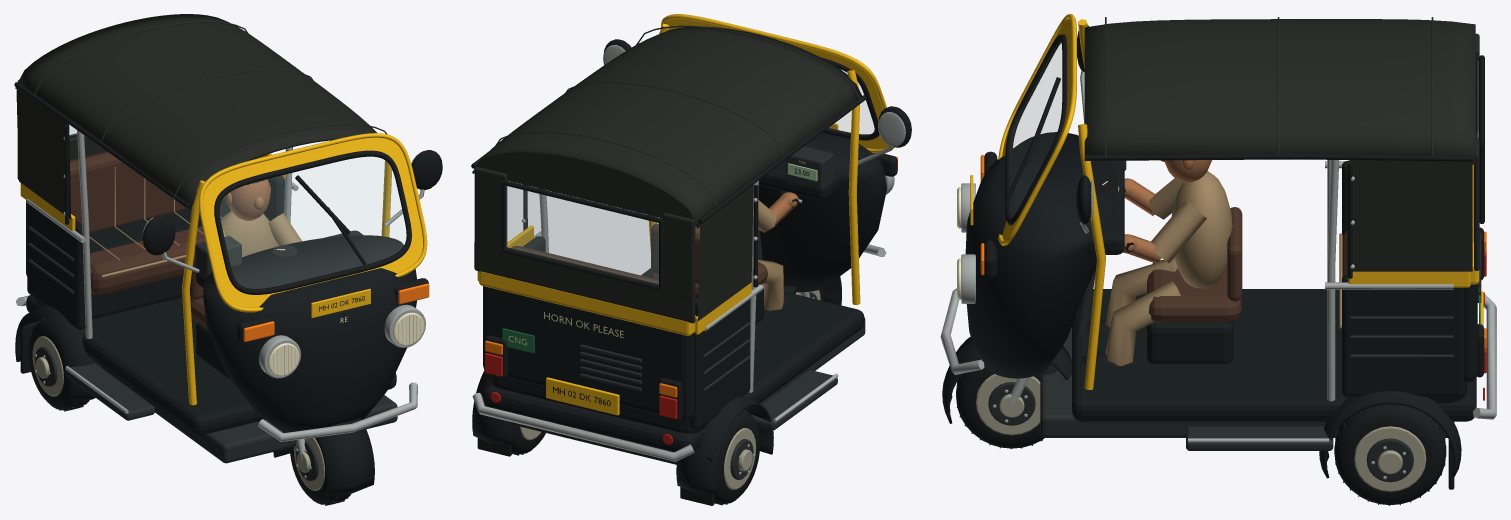
The model's file is mumbai-auto.glb.
3 renders of one model, left to right at view 1: azimuth 30°, elevation 25°; view 2: azimuth 150°, elevation 25°; view 3: azimuth 270°, elevation 25°, orthographic. The views are drawn at different scales.
Parts seen in each view (by area): view 1: body__Midnight black enamel.002, canopy__Tarpaulin black.002, body__Window glass.002, body__Mumbai taxi yellow.002, body__Warm vinyl.002, body__Rubber.002, body__Chassis.002, body__Chrome.002, body__Tarpaulin black.002, driver__Khaki cotton.002, body__Headlamp lens.002, wheel_rear_left__Rubber.002 (+11 smaller); view 2: body__Midnight black enamel.002, canopy__Tarpaulin black.002, body__Tarpaulin black.002, body__Mumbai taxi yellow.002, body__Window glass.002, body__Rubber.002, body__Chassis.002, body__Chrome.002, body__Warm vinyl.002, canopy__Chassis.002, wheel_rear_left__Rubber.002, driver__Khaki cotton.002 (+7 smaller); view 3: body__Midnight black enamel.002, canopy__Tarpaulin black.002, body__Tarpaulin black.002, driver__Khaki cotton.002, body__Chassis.002, body__Chrome.002, body__Mumbai taxi yellow.002, body__Rubber.002, wheel_rear_right__Rubber.002, body__Warm vinyl.002, body__Window glass.002, wheel_rear_right__Steel wheel.002 (+7 smaller).
Part boxes in pixels (box(x1,y1,x2,y2)): body__Midnight black enamel.002: box(15, 158, 416, 496); canopy__Tarpaulin black.002: box(15, 14, 376, 209); body__Window glass.002: box(69, 125, 405, 288); body__Mumbai taxi yellow.002: box(20, 133, 427, 405); body__Warm vinyl.002: box(70, 151, 226, 328); body__Rubber.002: box(20, 125, 442, 373); body__Chassis.002: box(28, 226, 397, 463); body__Chrome.002: box(15, 130, 425, 460); body__Tarpaulin black.002: box(16, 14, 205, 219); driver__Khaki cotton.002: box(204, 211, 301, 388); body__Headlamp lens.002: box(268, 312, 424, 376); wheel_rear_left__Rubber.002: box(28, 318, 89, 410); body__Midnight black enamel.002: box(472, 133, 886, 495); canopy__Tarpaulin black.002: box(472, 26, 861, 228); body__Tarpaulin black.002: box(474, 151, 753, 323); body__Mumbai taxi yellow.002: box(477, 14, 894, 415); body__Window glass.002: box(506, 71, 873, 283); body__Rubber.002: box(477, 39, 911, 505); body__Chassis.002: box(512, 146, 865, 464); body__Chrome.002: box(472, 45, 905, 461); body__Warm vinyl.002: box(511, 223, 767, 301); canopy__Chassis.002: box(495, 25, 861, 206); wheel_rear_left__Rubber.002: box(714, 410, 760, 504); driver__Khaki cotton.002: box(695, 200, 783, 310); body__Midnight black enamel.002: box(942, 132, 1477, 478); canopy__Tarpaulin black.002: box(1084, 19, 1475, 164); body__Tarpaulin black.002: box(1350, 33, 1479, 271); driver__Khaki cotton.002: box(1105, 171, 1232, 365); body__Chassis.002: box(1040, 160, 1481, 450); body__Chrome.002: box(940, 70, 1496, 442); body__Mumbai taxi yellow.002: box(970, 14, 1483, 389); body__Rubber.002: box(984, 25, 1484, 489); wheel_rear_right__Rubber.002: box(1334, 404, 1446, 505); body__Warm vinyl.002: box(1147, 207, 1347, 323); body__Window glass.002: box(1011, 41, 1478, 216); wheel_rear_right__Steel wheel.002: box(1354, 426, 1426, 491).
Bounding box in the file's own units: 1.92 × 2.07 × 2.64.
